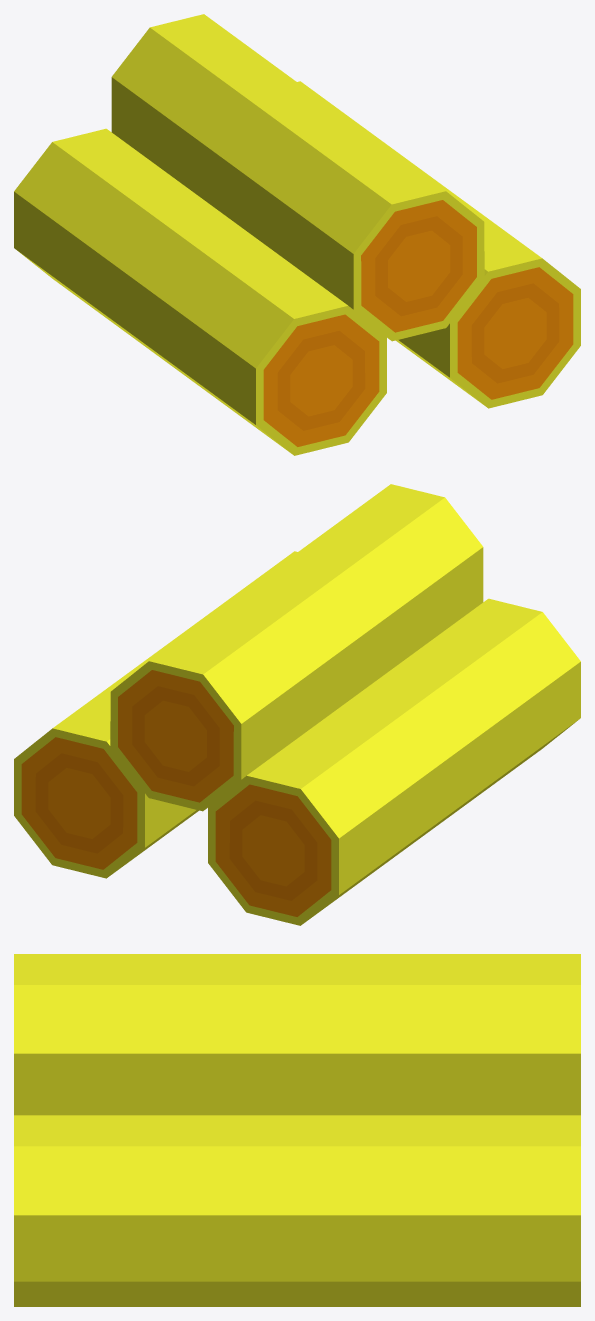
File: Small Log_18.fbx
3 views of the same model, one above another, from view 1: azimuth 30°, elevation 25°; view 2: azimuth 150°, elevation 25°; view 3: azimuth 270°, elevation 25° (orthographic). The views are drawn at different scales.
Visible parts, largest first — view 1: Circle.362; view 2: Circle.362; view 3: Circle.362.
Boxes of the visible parts, x1=… form: Circle.362: x1=14, y1=14, x2=580, y2=455; Circle.362: x1=14, y1=484, x2=580, y2=925; Circle.362: x1=14, y1=954, x2=580, y2=1306.
Size of the model in its own units: 18.25 by 12.23 by 23.54.
